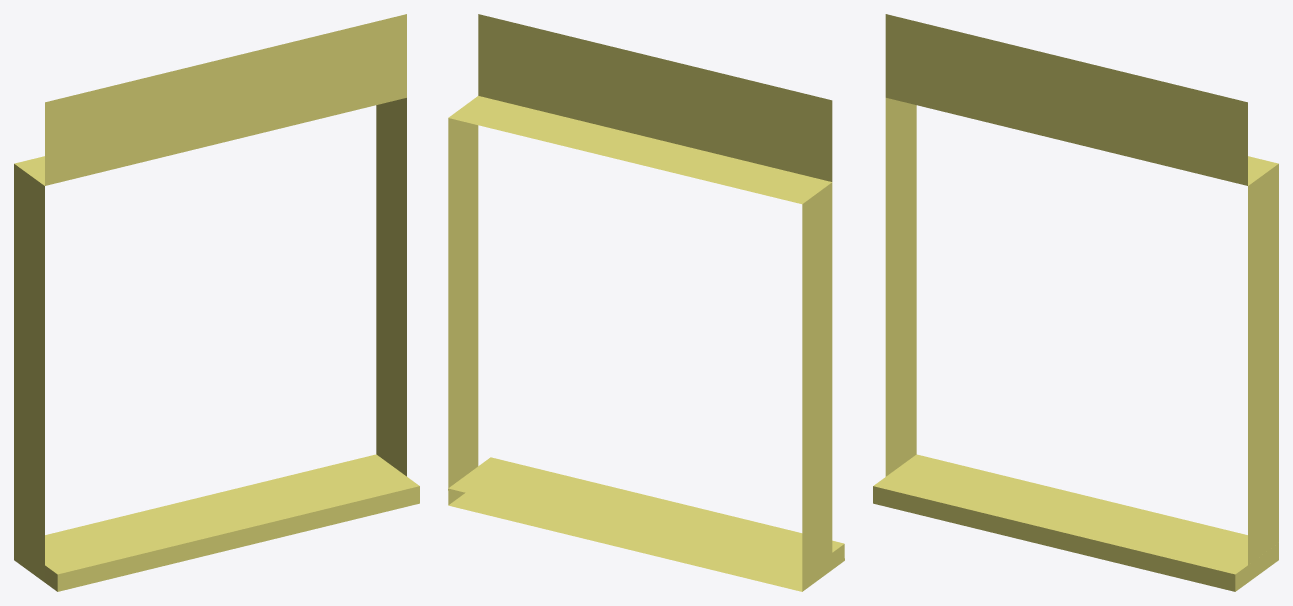
File: Itr_Wall_Color_06(for_window).FBX
The picture shows the model from 3 angles, left to right: view 1: azimuth 30°, elevation 25°; view 2: azimuth 150°, elevation 25°; view 3: azimuth 330°, elevation 25°; orthographic projection. The views are drawn at different scales.
Visible parts, largest first — view 1: Itr_Wall_Color_06(for_window); view 2: Itr_Wall_Color_06(for_window); view 3: Itr_Wall_Color_06(for_window).
Part boxes in pixels (x1,y1,x2,y2): Itr_Wall_Color_06(for_window): [14, 14, 419, 591]; Itr_Wall_Color_06(for_window): [448, 14, 844, 591]; Itr_Wall_Color_06(for_window): [873, 14, 1278, 591].
Bounding box in the file's own units: 65.28 × 82.71 × 13.59.
